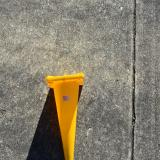cone: (45, 72, 85, 160)
